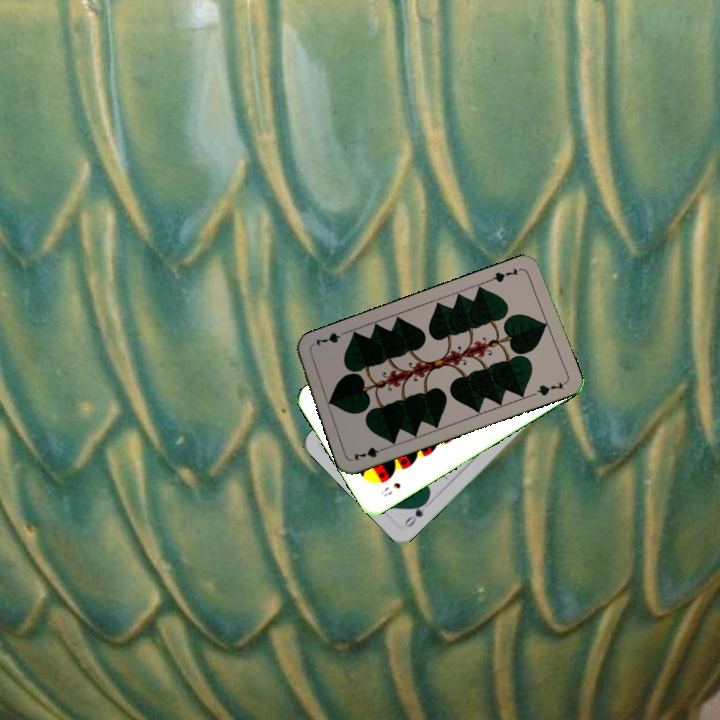G7: (486, 264, 526, 285), (350, 443, 390, 463)
GO: (401, 496, 430, 530)
S8: (377, 478, 403, 499)
